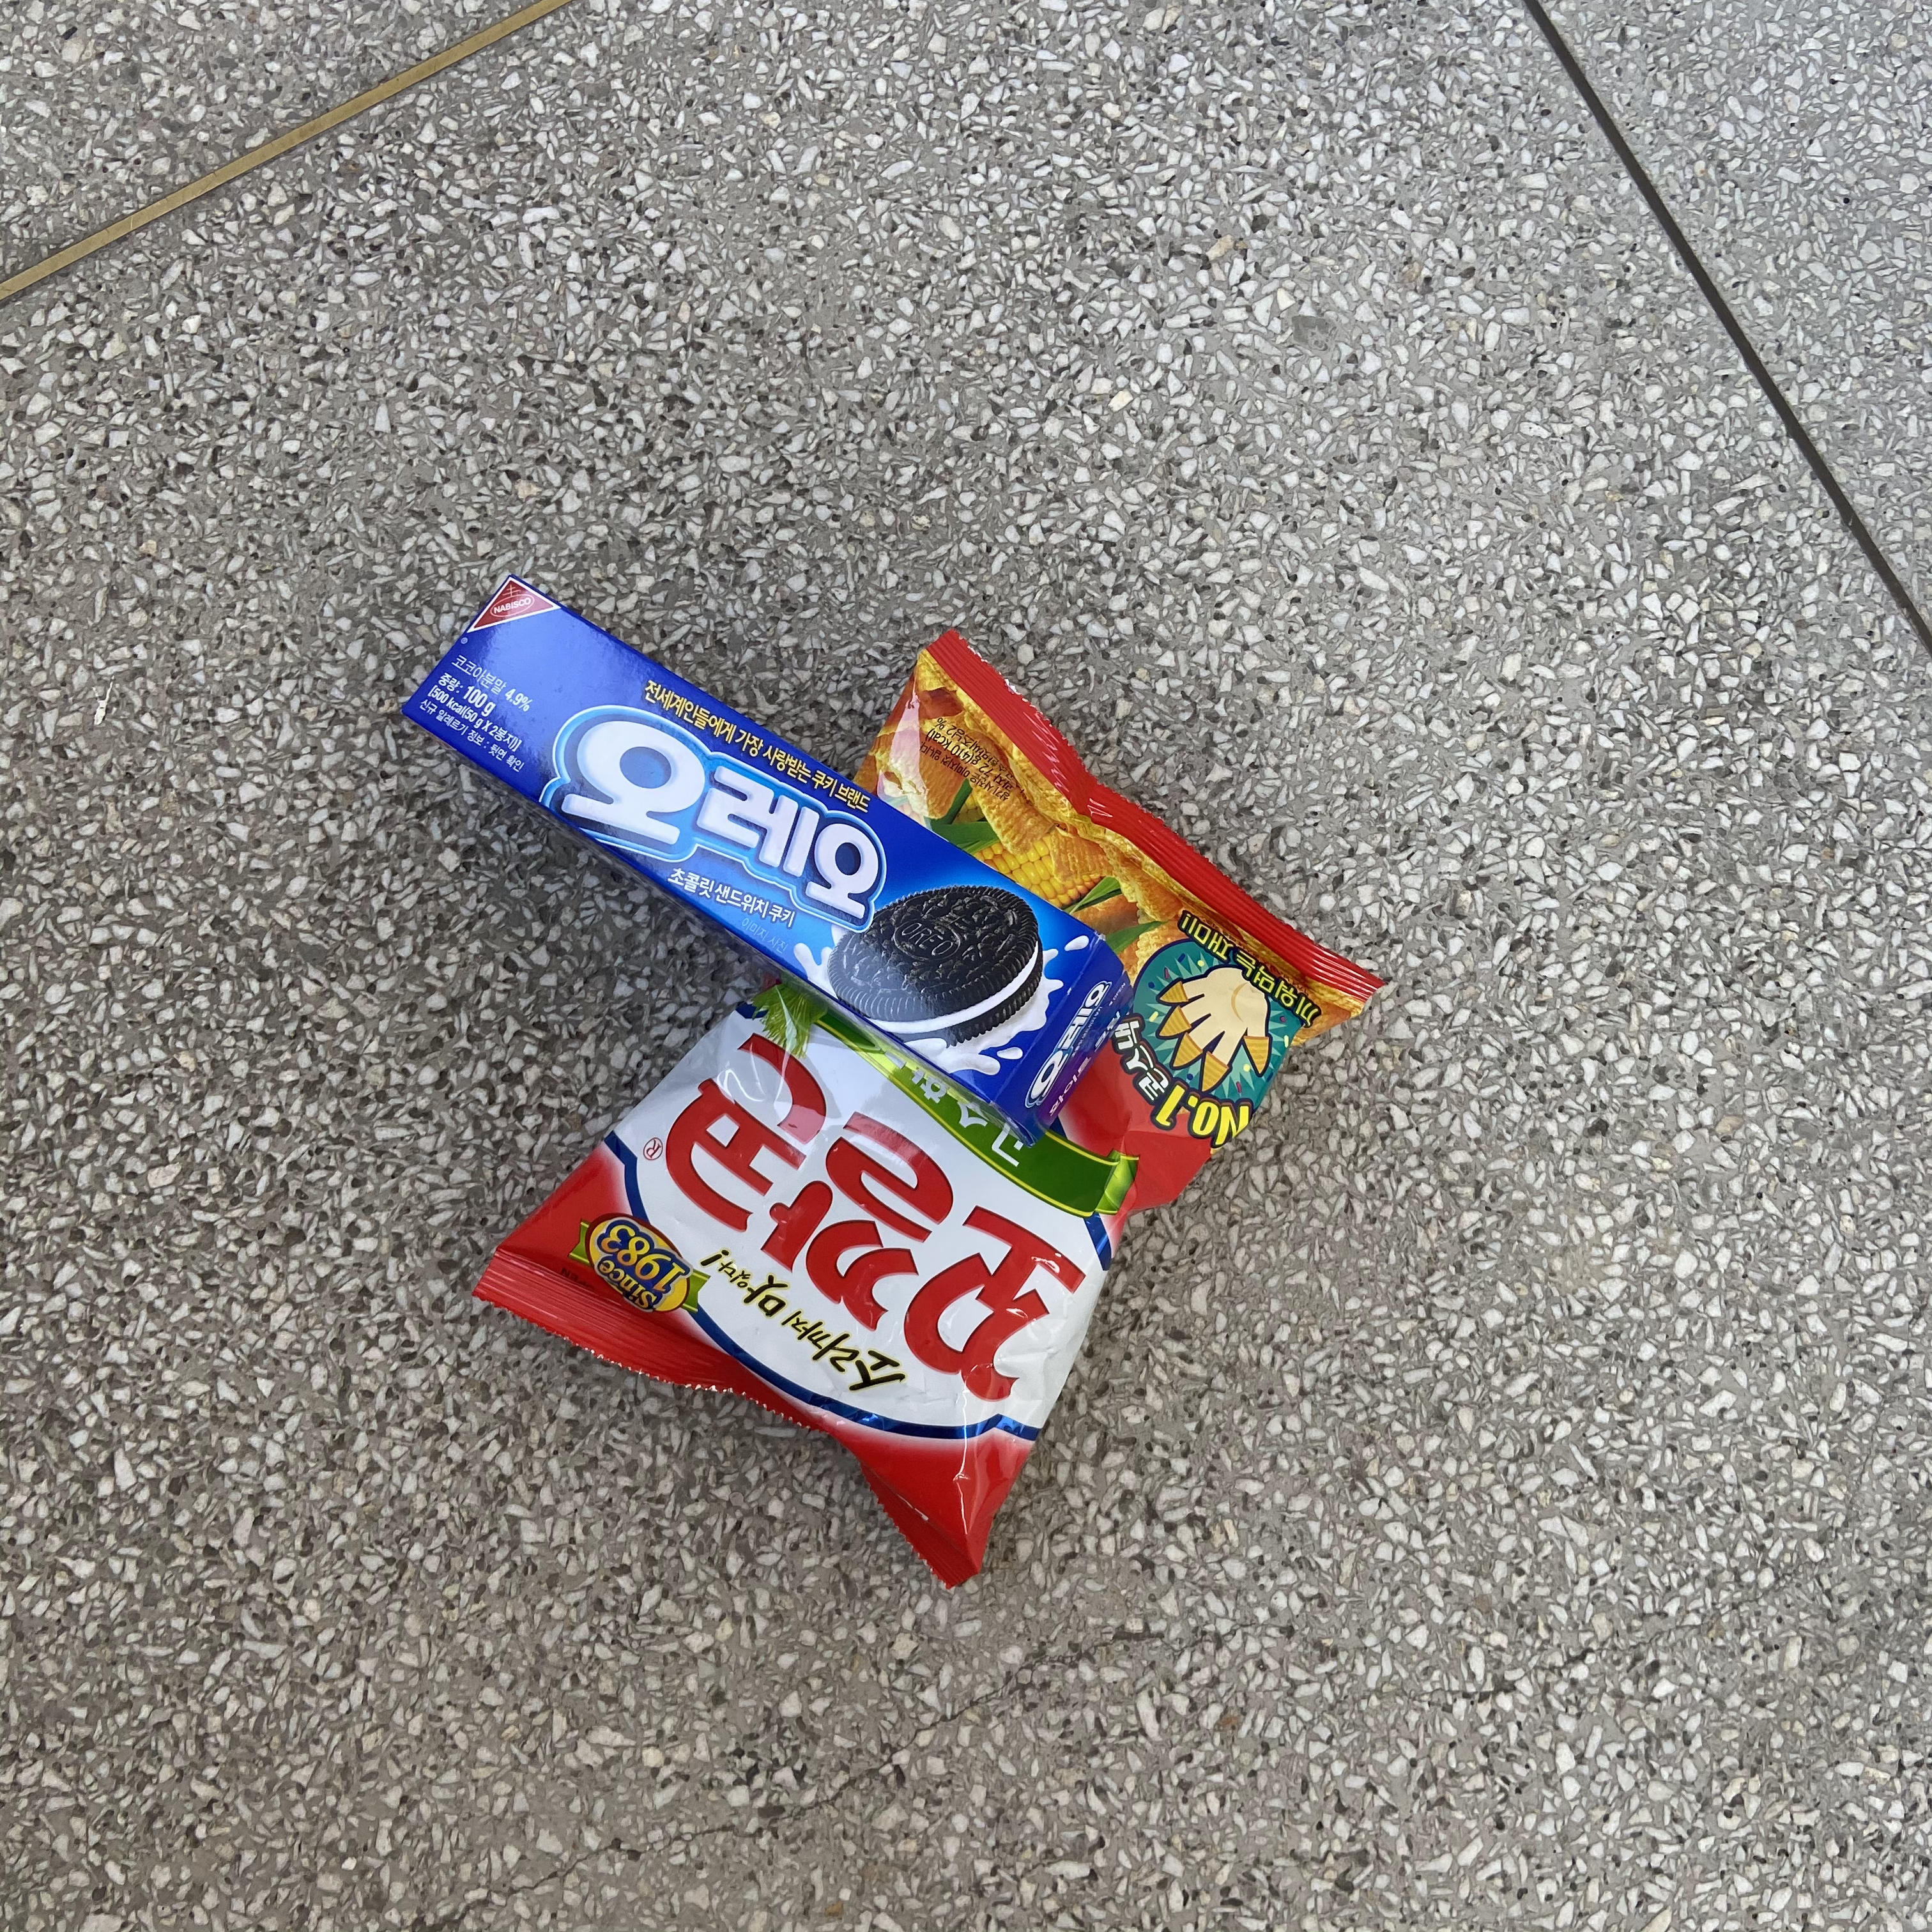ggoggalcon: (455, 609, 1412, 1603)
oreo: (391, 556, 1141, 1134)
